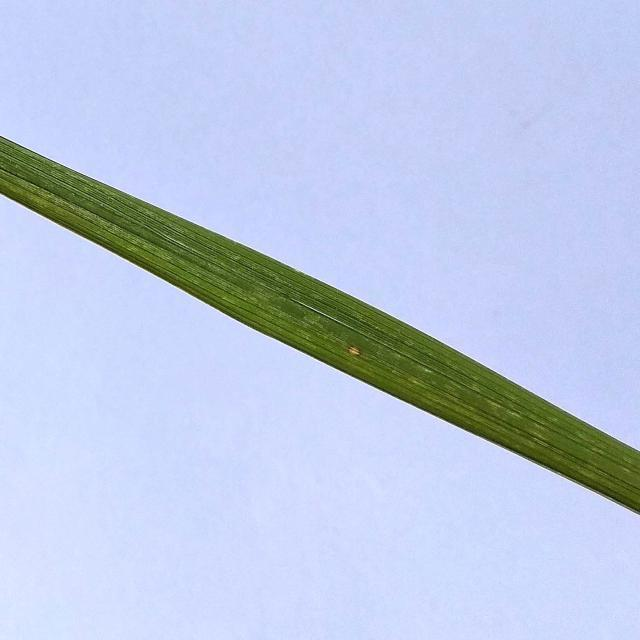Blast: (343, 344, 371, 360)
